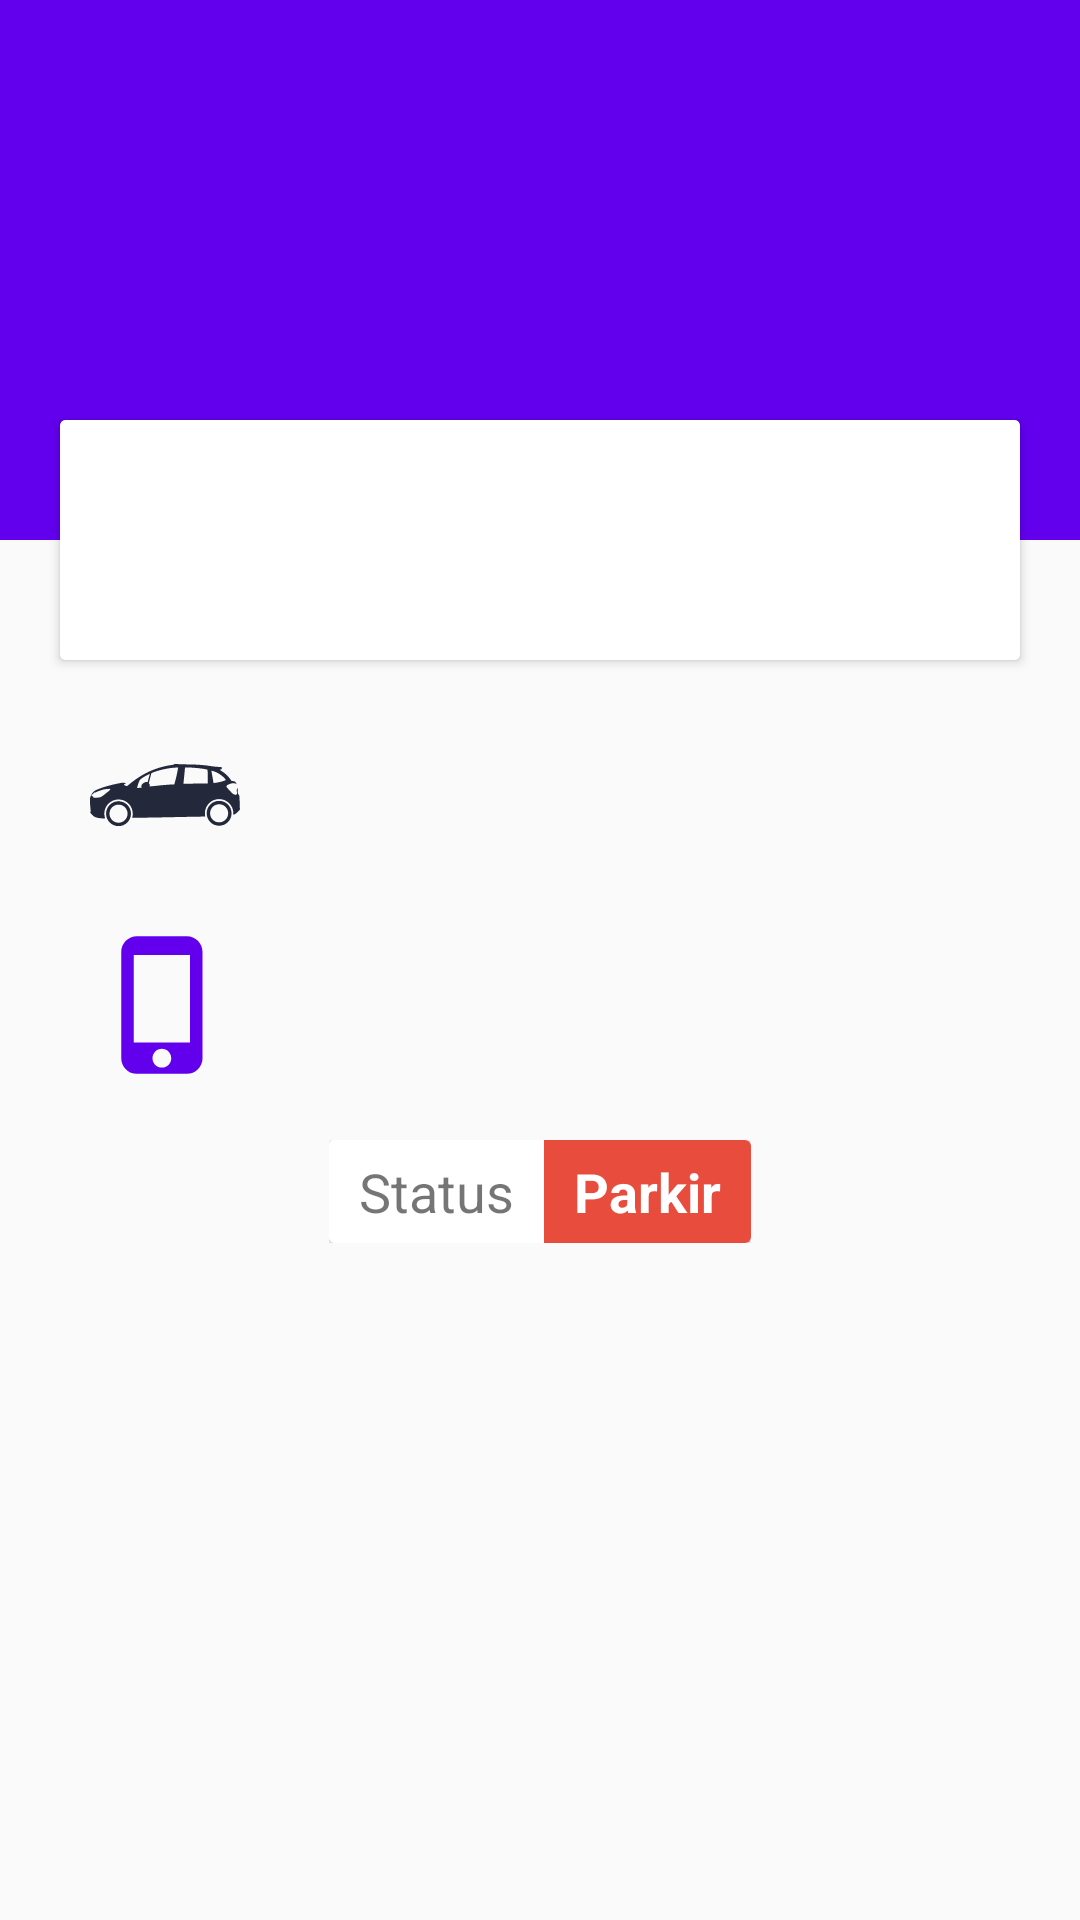

Icons on this 1080x1920 Android screen, each with its box as (x1, y1, x2, y2):
car side: (90, 764, 240, 826)
phone iphone: (121, 936, 203, 1074)
